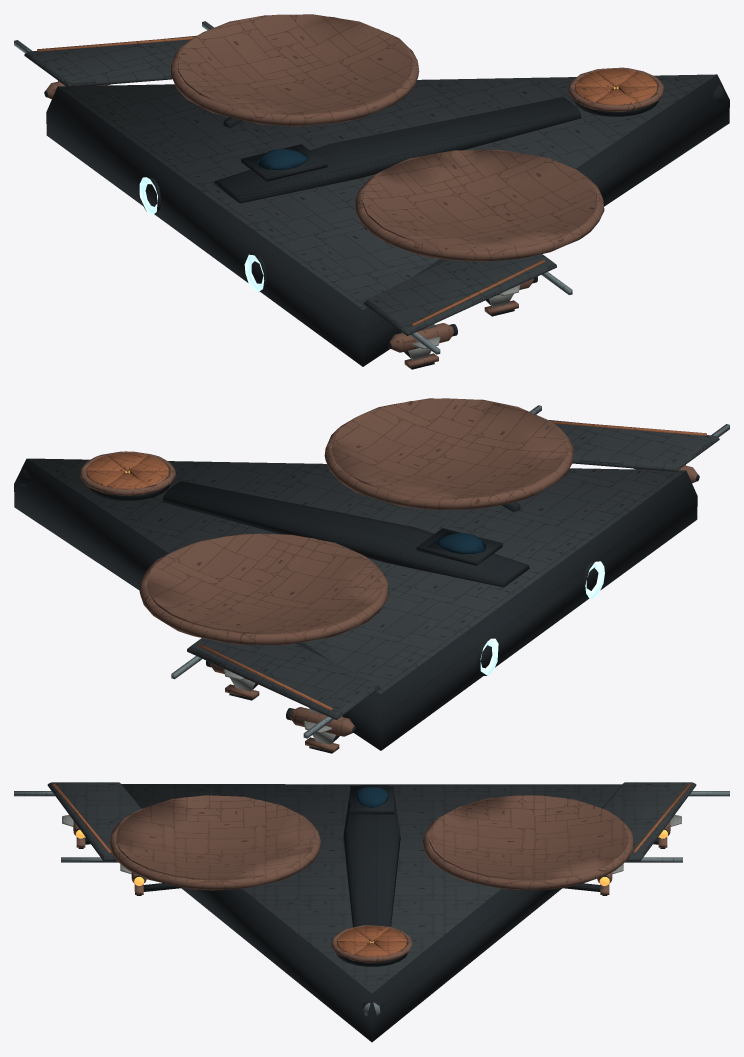
The model's file is mothlight_lod2.glb.
The picture shows the model from 3 angles, top to bottom: view 1: azimuth 30°, elevation 25°; view 2: azimuth 150°, elevation 25°; view 3: azimuth 270°, elevation 25°; orthographic projection. The views are drawn at different scales.
Visible parts, largest first — view 1: LOD2_Armor, LOD2_MechanicalDark, LOD2_Hull, LOD2_MOTION_MOTHLIGHT_HATCH_2_Hull, LOD2_MOTION_MOTHLIGHT_HATCH_1_Hull, LOD2_MOTION_MOTHLIGHT_STOCK_2_Armor, LOD2_CANOPY, LOD2_HOOK_DRIVE_CORE, LOD2_BrushedMetal; view 2: LOD2_Armor, LOD2_MechanicalDark, LOD2_Hull, LOD2_MOTION_MOTHLIGHT_HATCH_1_Hull, LOD2_MOTION_MOTHLIGHT_HATCH_2_Hull, LOD2_MOTION_MOTHLIGHT_STOCK_1_Armor, LOD2_CANOPY, LOD2_HOOK_DRIVE_CORE, LOD2_BrushedMetal; view 3: LOD2_Armor, LOD2_Hull, LOD2_MechanicalDark, LOD2_MOTION_MOTHLIGHT_HATCH_1_Hull, LOD2_MOTION_MOTHLIGHT_HATCH_2_Hull, LOD2_BrushedMetal, LOD2_CANOPY.
Boxes of the visible parts, <box> form: LOD2_Armor: <box>170,14,663,367</box>; LOD2_MechanicalDark: <box>46,74,729,369</box>; LOD2_Hull: <box>58,74,716,309</box>; LOD2_MOTION_MOTHLIGHT_HATCH_2_Hull: <box>364,254,556,335</box>; LOD2_MOTION_MOTHLIGHT_HATCH_1_Hull: <box>24,35,196,87</box>; LOD2_MOTION_MOTHLIGHT_STOCK_2_Armor: <box>389,323,453,352</box>; LOD2_CANOPY: <box>257,148,308,169</box>; LOD2_HOOK_DRIVE_CORE: <box>139,177,264,292</box>; LOD2_BrushedMetal: <box>14,21,572,354</box>; LOD2_Armor: <box>80,398,573,751</box>; LOD2_MechanicalDark: <box>14,458,697,753</box>; LOD2_Hull: <box>27,458,685,693</box>; LOD2_MOTION_MOTHLIGHT_HATCH_1_Hull: <box>187,638,379,719</box>; LOD2_MOTION_MOTHLIGHT_HATCH_2_Hull: <box>549,420,719,471</box>; LOD2_MOTION_MOTHLIGHT_STOCK_1_Armor: <box>290,707,354,736</box>; LOD2_CANOPY: <box>435,533,485,554</box>; LOD2_HOOK_DRIVE_CORE: <box>480,561,604,675</box>; LOD2_BrushedMetal: <box>171,405,729,738</box>; LOD2_Armor: <box>76,795,667,962</box>; LOD2_Hull: <box>121,784,621,993</box>; LOD2_MechanicalDark: <box>78,785,665,1042</box>; LOD2_MOTION_MOTHLIGHT_HATCH_1_Hull: <box>602,782,696,861</box>; LOD2_MOTION_MOTHLIGHT_HATCH_2_Hull: <box>47,782,141,861</box>; LOD2_BrushedMetal: <box>14,791,729,1016</box>; LOD2_CANOPY: <box>355,787,388,807</box>.
Size of what is drawn, in the model's own units: 23.09 by 3.35 by 31.99.
Materials: 9 (6 with a texture image).
